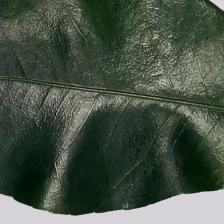healthy: (0, 0, 224, 194)
